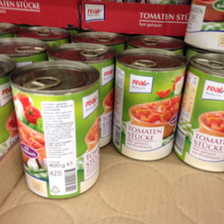tomato_sauce: (8, 59, 102, 201), (113, 47, 189, 162), (173, 53, 224, 173)
